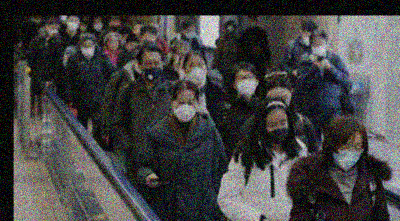with_mask: (331, 140, 363, 171), (265, 117, 290, 145), (172, 96, 197, 123), (140, 58, 163, 82), (234, 72, 256, 97), (185, 59, 206, 83), (310, 41, 326, 56), (81, 42, 95, 59), (65, 18, 79, 31), (301, 32, 311, 46), (184, 28, 196, 39), (92, 20, 103, 32), (46, 25, 59, 35), (226, 22, 233, 32), (248, 19, 256, 27)
without_mask: (107, 37, 119, 50)
